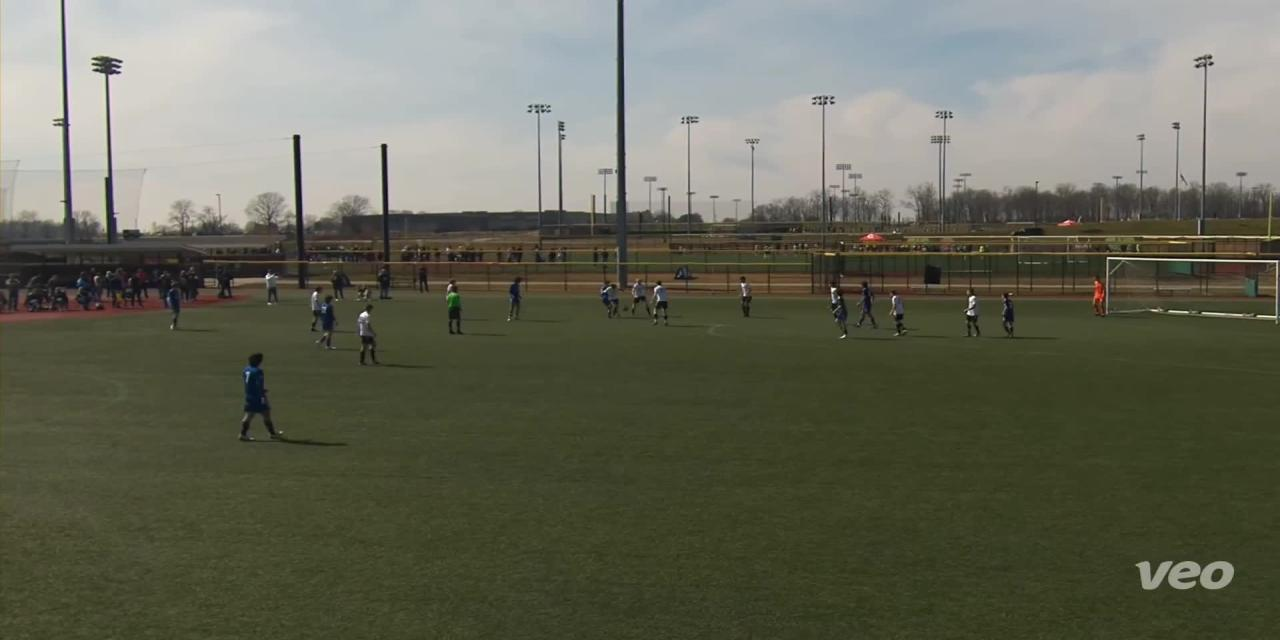goal: (1082, 245, 1280, 348)
sports ball: (620, 300, 640, 316)
